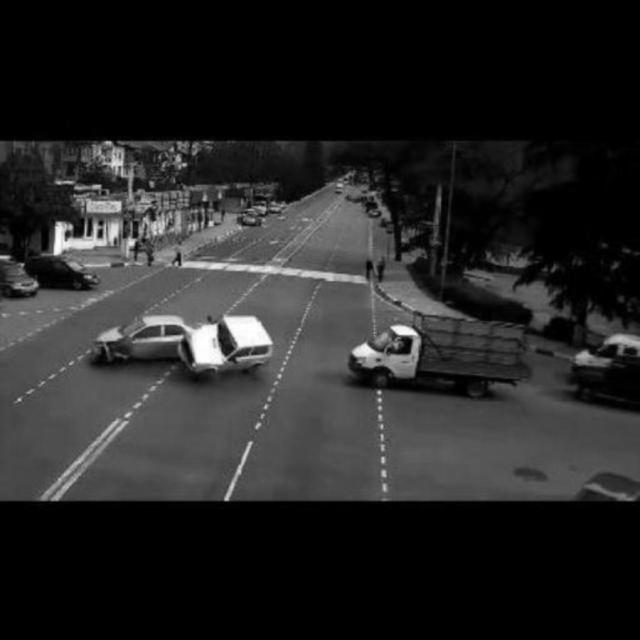accident: (95, 312, 271, 385)
vehicle: (350, 311, 524, 399), (31, 252, 98, 288)
